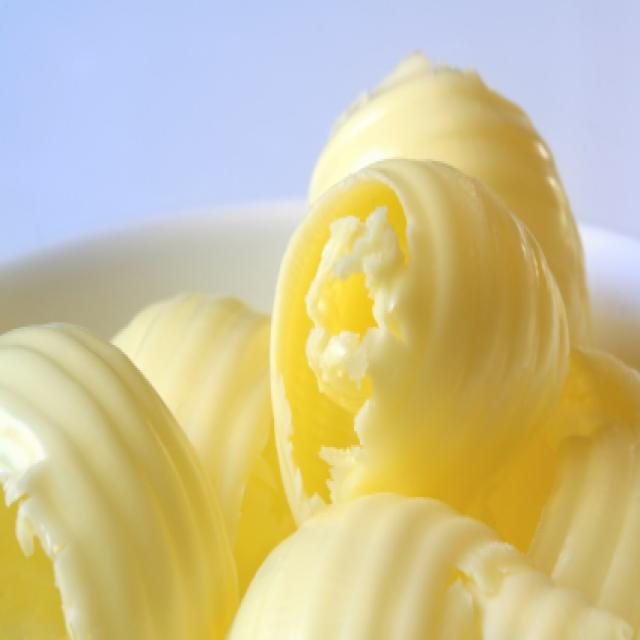Butter: (287, 68, 624, 640)
